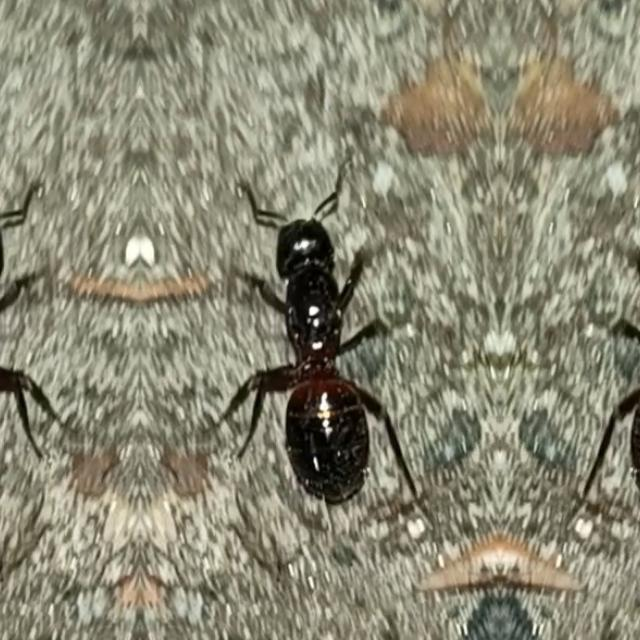Camponotus: (238, 159, 394, 539), (0, 159, 40, 539), (604, 159, 640, 539)
